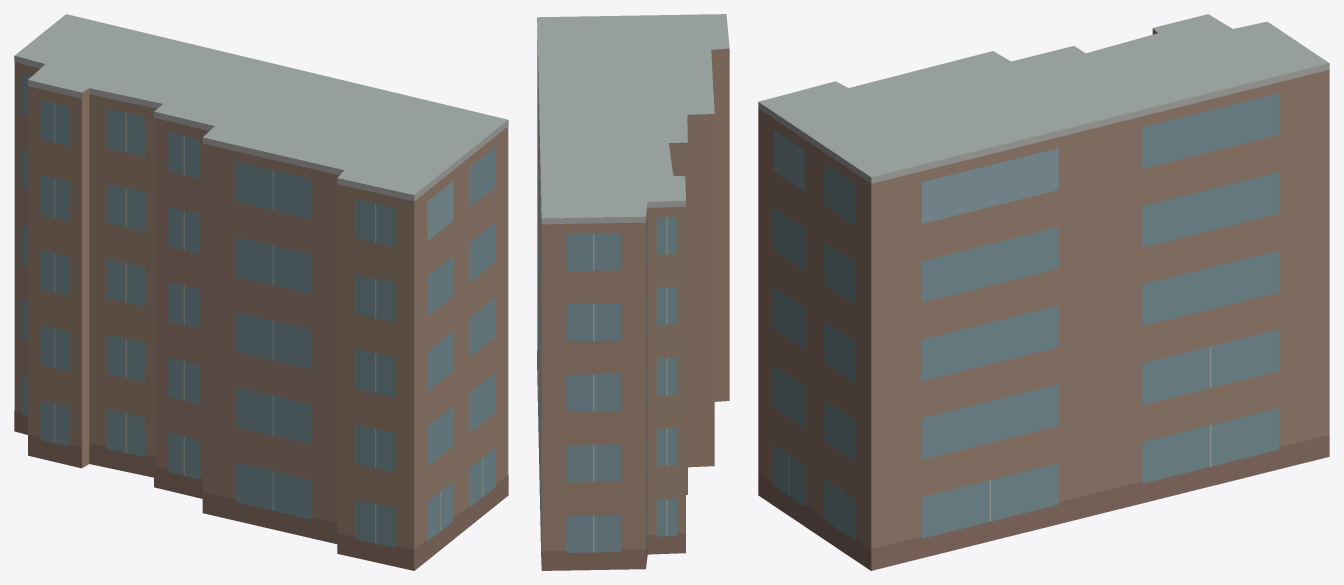
File: survey-upis-32763608.glb
3 renders of one model, left to right at view 1: azimuth 30°, elevation 25°; view 2: azimuth 150°, elevation 25°; view 3: azimuth 270°, elevation 25°, orthographic. The views are drawn at different scales.
Parts seen in each view (by area): view 1: survey-upis-32763608.tmp; view 2: survey-upis-32763608.tmp; view 3: survey-upis-32763608.tmp.
Boxes of the visible parts, bbox=[...] form: survey-upis-32763608.tmp: bbox=[14, 14, 508, 570]; survey-upis-32763608.tmp: bbox=[537, 14, 729, 570]; survey-upis-32763608.tmp: bbox=[758, 14, 1329, 570].
Bounding box in the file's own units: 13.09 × 14.7 × 19.35.
